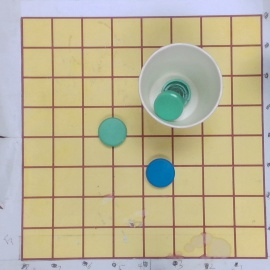blue: (145, 156, 175, 188), (98, 118, 126, 148)
cup_green: (138, 42, 224, 130)
